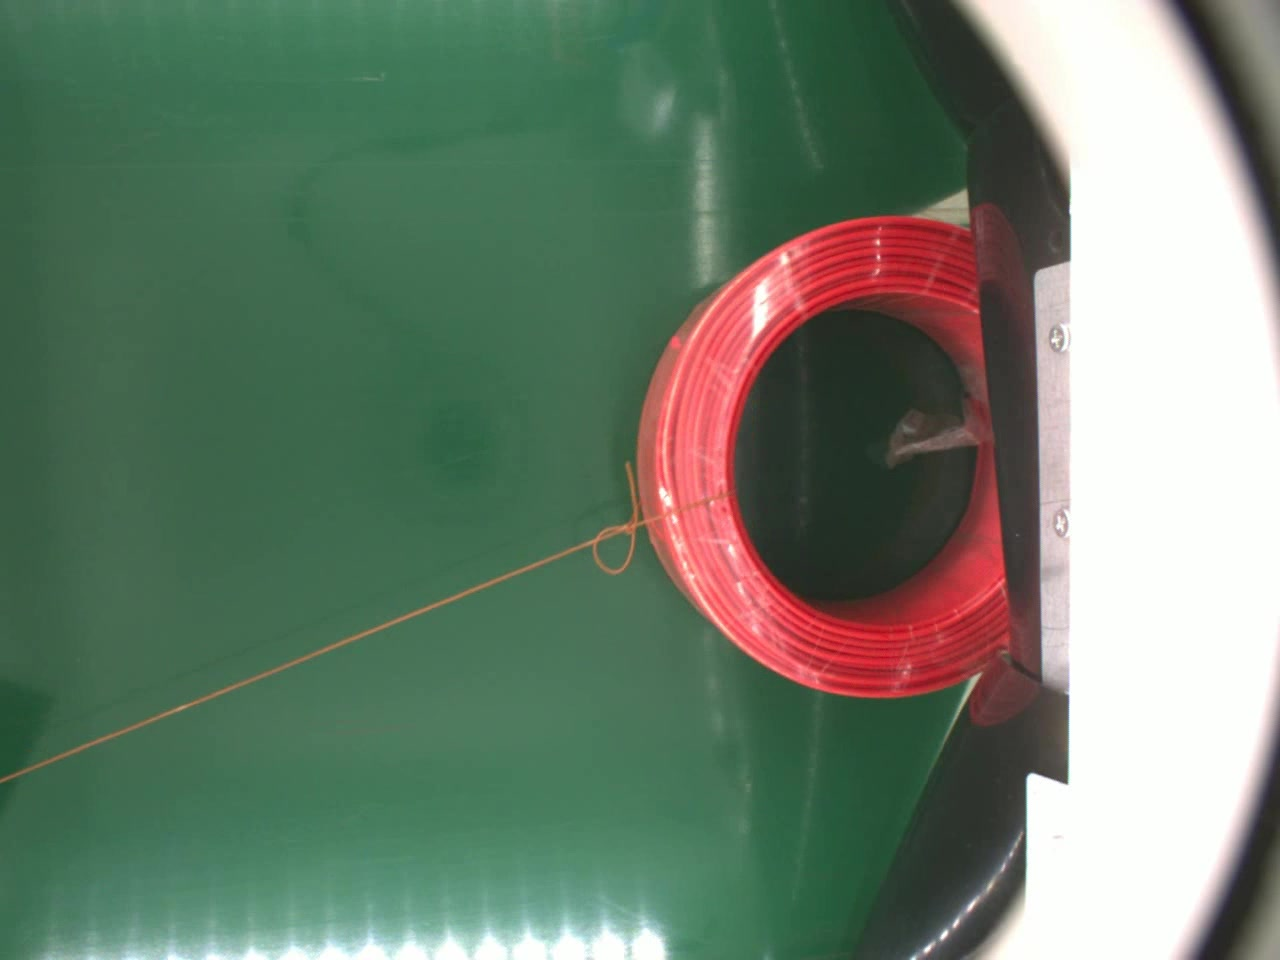red: (631, 210, 1002, 697)
